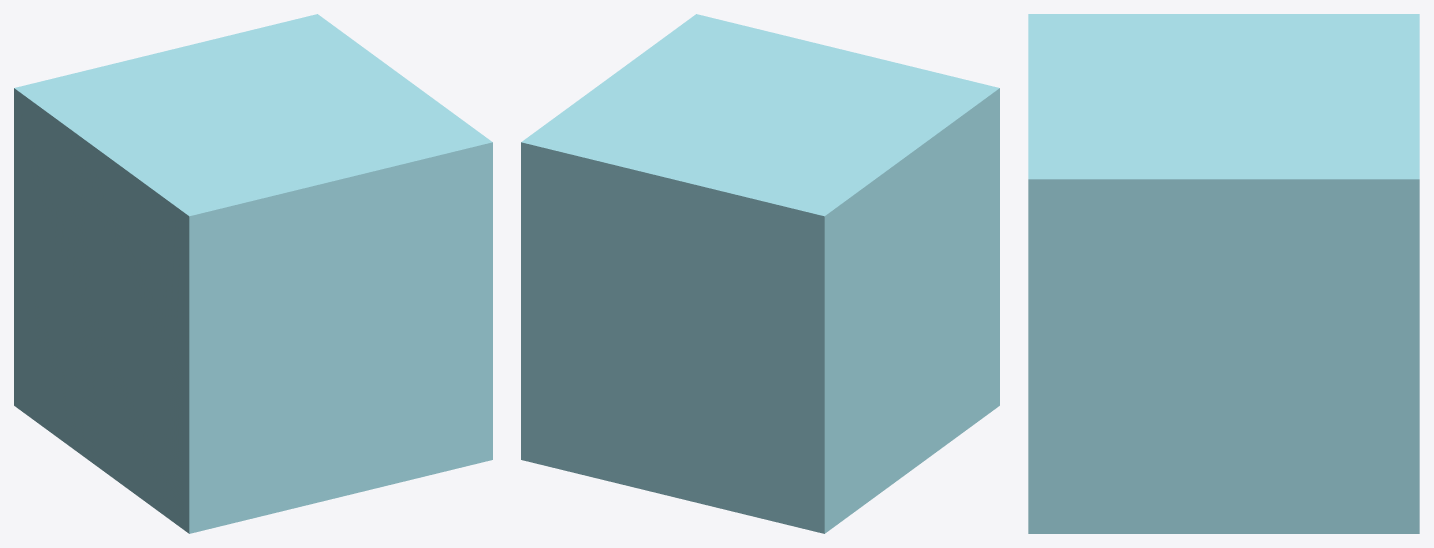
The model's file is DiamondBlock.fbx.
3 renders of one model, left to right at view 1: azimuth 30°, elevation 25°; view 2: azimuth 150°, elevation 25°; view 3: azimuth 270°, elevation 25°, orthographic. The views are drawn at different scales.
Visible parts, largest first — view 1: Segment_2.005, Segment_1.005, Segment_6.004, Segment_4.005, Segment_5.005, Segment_3.005, Segment_8.003; view 2: Segment_4.005, Segment_3.005, Segment_2.005, Segment_8.003, Segment_7.003, Segment_1.005, Segment_6.004; view 3: Segment_6.004, Segment_8.003, Segment_5.005, Segment_7.003, Segment_2.005, Segment_4.005.
Part boxes in pixels (x1,y1,x2,y2): Segment_2.005: [81, 95, 348, 369]; Segment_1.005: [91, 298, 348, 533]; Segment_6.004: [251, 63, 492, 337]; Segment_4.005: [14, 45, 250, 297]; Segment_5.005: [348, 308, 492, 494]; Segment_3.005: [14, 241, 101, 469]; Segment_8.003: [191, 14, 383, 95]; Segment_4.005: [648, 126, 901, 369]; Segment_3.005: [648, 313, 912, 533]; Segment_2.005: [722, 49, 999, 312]; Segment_8.003: [521, 93, 721, 333]; Segment_7.003: [521, 308, 647, 490]; Segment_1.005: [901, 241, 999, 468]; Segment_6.004: [588, 14, 840, 125]; Segment_6.004: [1028, 100, 1269, 364]; Segment_8.003: [1245, 106, 1419, 364]; Segment_5.005: [1028, 364, 1245, 533]; Segment_7.003: [1223, 364, 1419, 533]; Segment_2.005: [1028, 14, 1269, 106]; Segment_4.005: [1270, 14, 1419, 109].
Bounding box in the file's own units: 4.5 × 4.5 × 4.5.
